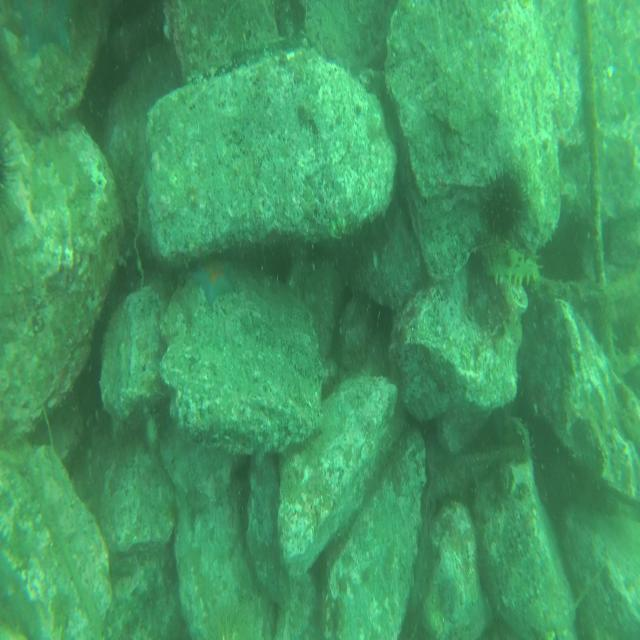echinus: (485, 164, 529, 240), (544, 225, 586, 286), (195, 611, 253, 640), (0, 124, 19, 194)
holothurian: (484, 246, 541, 291)
starfish: (188, 268, 238, 306)
